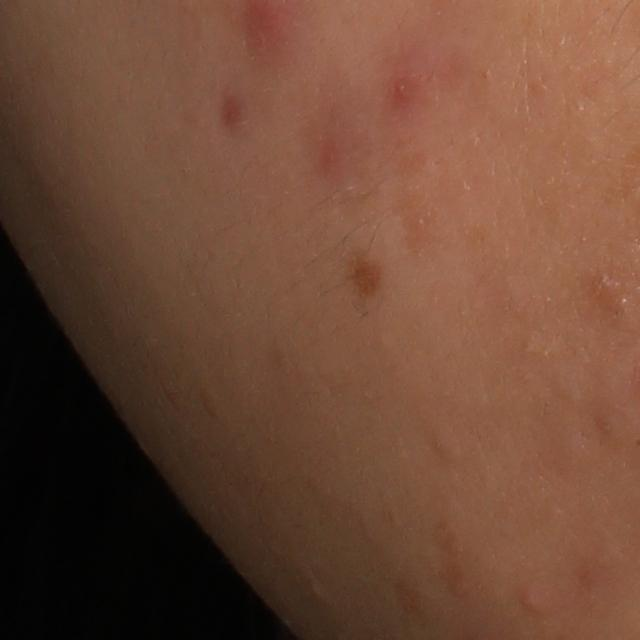comedo: (427, 416, 457, 462)
papule: (521, 590, 543, 613)
